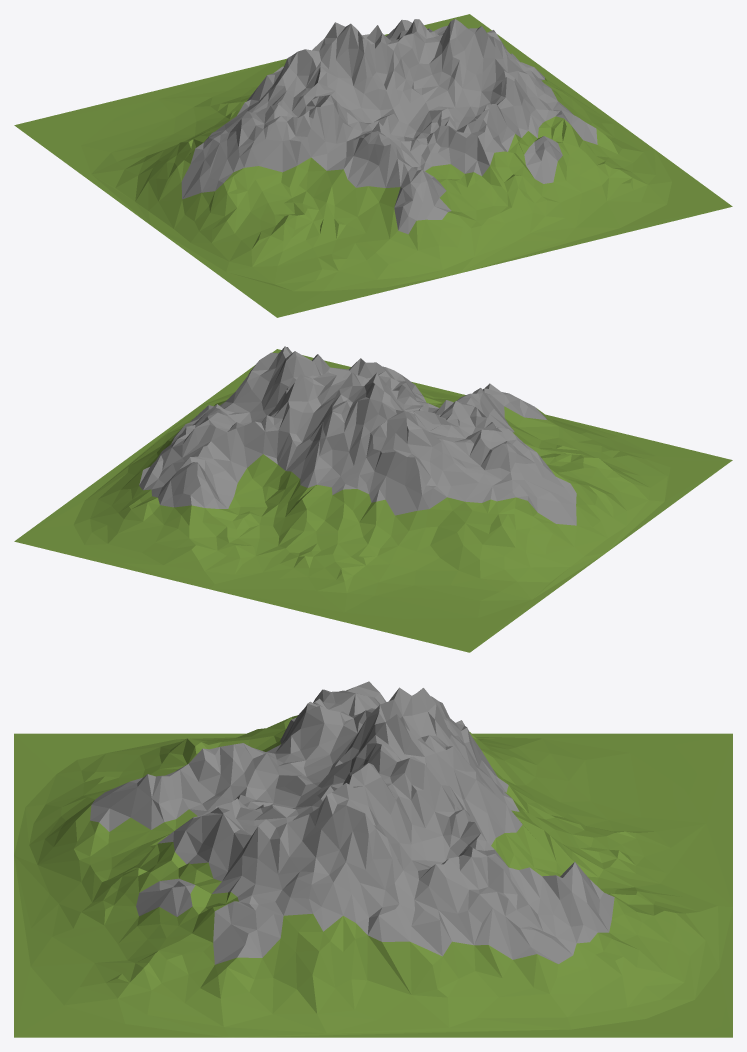
File: Landscape_03.fbx
3 renders of one model, top to bottom at view 1: azimuth 30°, elevation 25°; view 2: azimuth 150°, elevation 25°; view 3: azimuth 270°, elevation 25°, orthographic. The views are drawn at different scales.
Visible parts, largest first — view 1: Landscape_03; view 2: Landscape_03; view 3: Landscape_03.
Part boxes in pixels (x1,y1,x2,y2): Landscape_03: (14,14,732,317); Landscape_03: (14,346,732,652); Landscape_03: (14,681,732,1037).
Bounding box in the file's own units: 10000 × 2910 × 10000.
